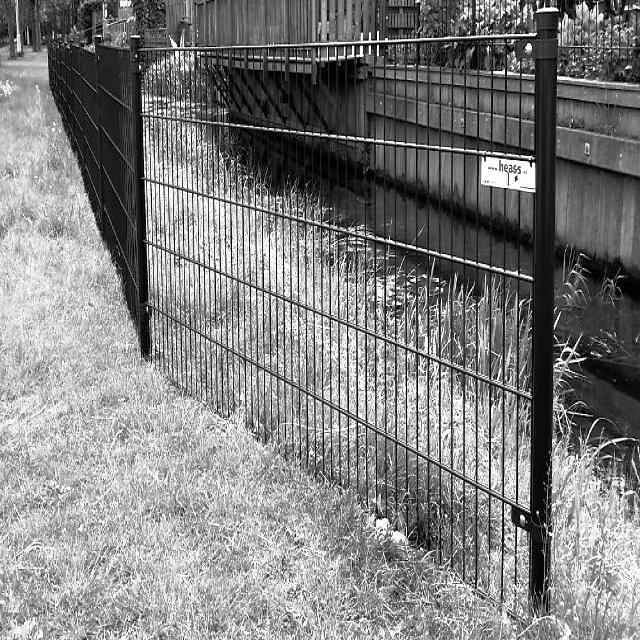fences: (159, 18, 564, 620), (161, 52, 566, 568), (48, 33, 138, 333)
